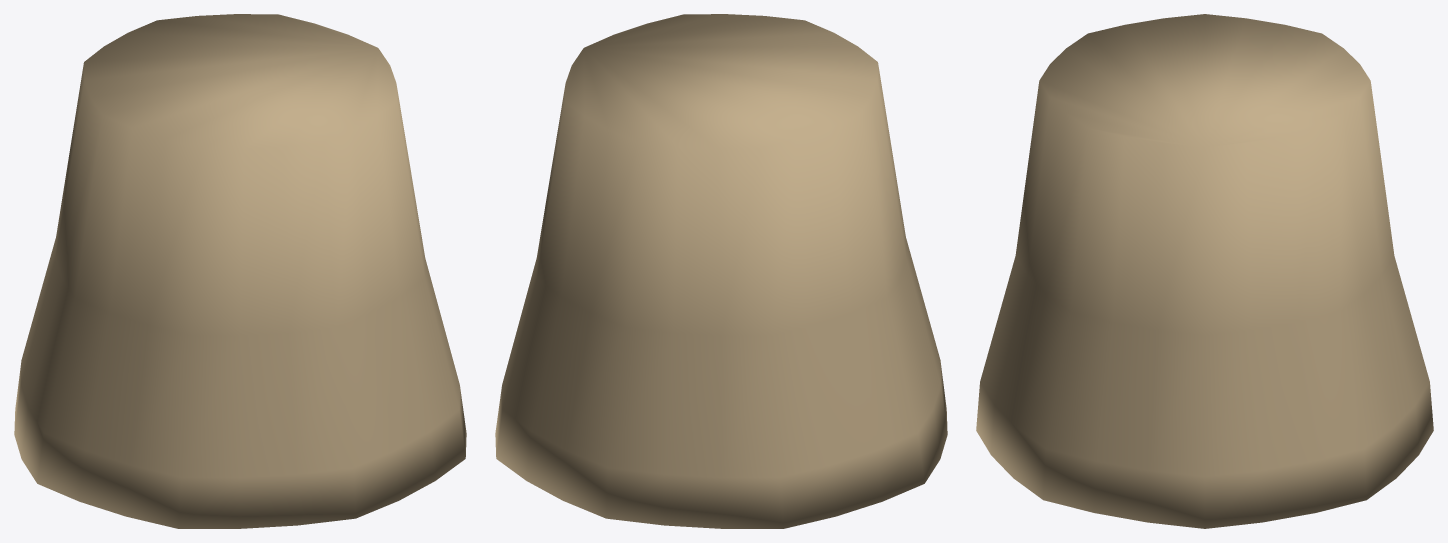
File: SM_Jinyang_Robe.fbx
3 renders of one model, left to right at view 1: azimuth 30°, elevation 25°; view 2: azimuth 150°, elevation 25°; view 3: azimuth 270°, elevation 25°, orthographic.
Visible parts, largest first — view 1: SM_Jinyang_Robe; view 2: SM_Jinyang_Robe; view 3: SM_Jinyang_Robe.
Part boxes in pixels (x1,y1,x2,y2): SM_Jinyang_Robe: [14, 14, 466, 528]; SM_Jinyang_Robe: [495, 14, 947, 528]; SM_Jinyang_Robe: [976, 14, 1433, 528].
Size of the model in its own units: 121 by 100 by 119.
